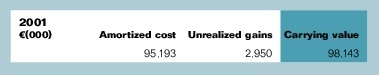table: (0, 0, 379, 75)
